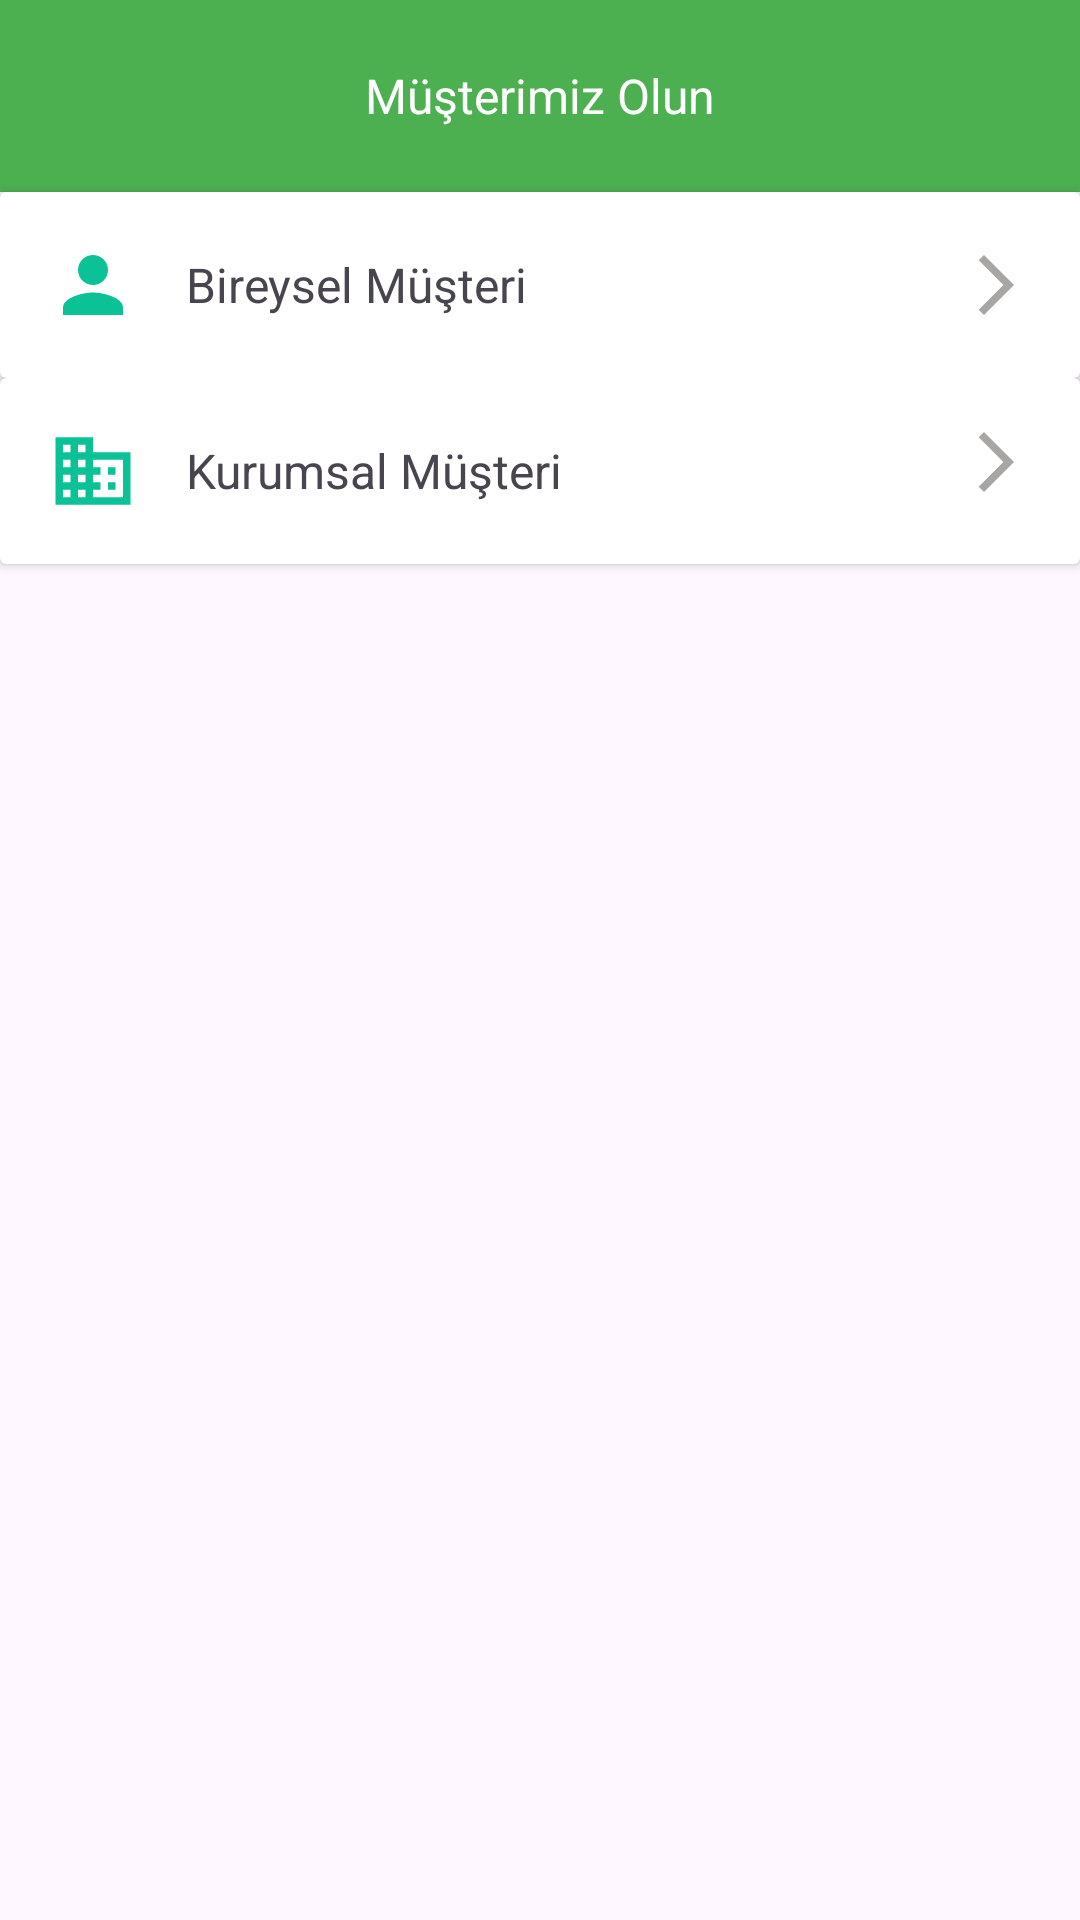

Named icons in this screenshot (1080x1920) and their centers, (x,y):
arrow forward: (996,285), (996,462)
business: (93,471)
person: (93,285)
